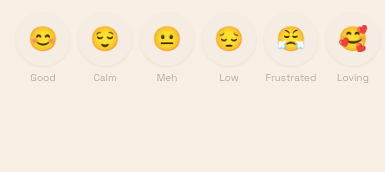
Test case: MoodPicker › interaction › shows note input after mood selection
Select a mood (wrapping in act since it triggers async state updates)
Click the button with test id "mood-button-good" at [43, 39], box [16,12,70,66]
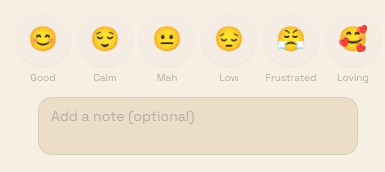
Check: the text box with test id "mood-note-input" is shown, box [38,97,358,155]
